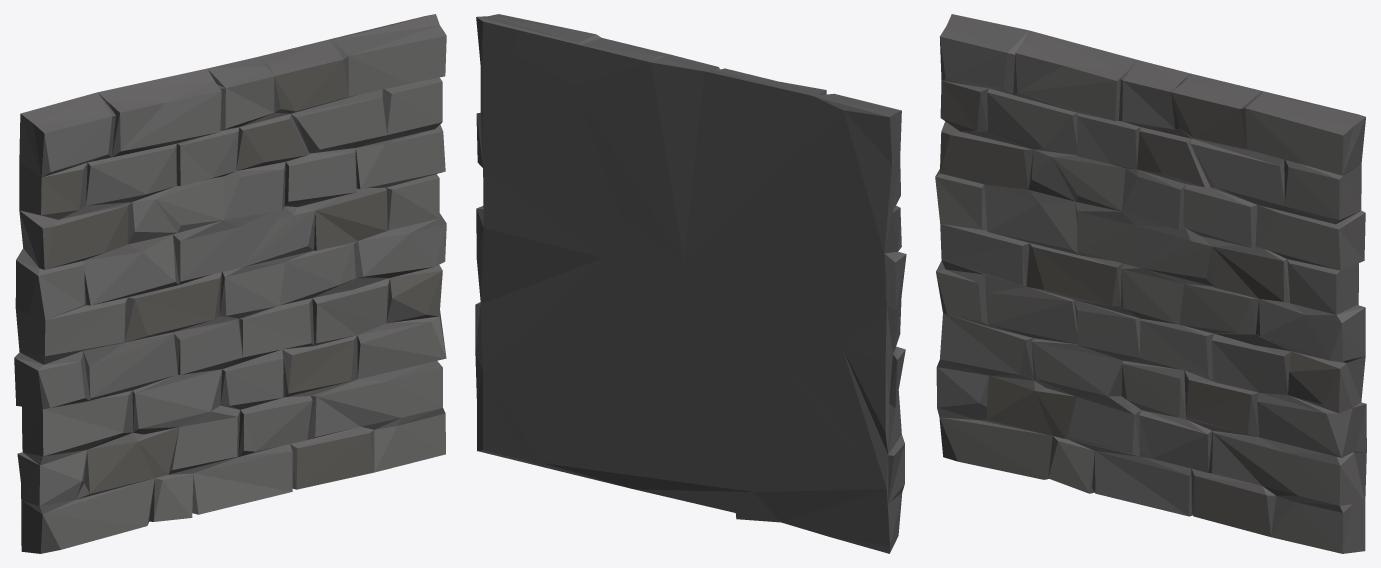
File: SM_Env_Wall_01.FBX
3 views of the same model, side by side, from view 1: azimuth 30°, elevation 25°; view 2: azimuth 150°, elevation 25°; view 3: azimuth 330°, elevation 25° (orthographic).
Visible parts, largest first — view 1: SM_Env_Wall_01; view 2: SM_Env_Wall_01; view 3: SM_Env_Wall_01.
Part boxes in pixels (<box>): SM_Env_Wall_01: <box>14,14,446,553</box>; SM_Env_Wall_01: <box>475,14,906,553</box>; SM_Env_Wall_01: <box>935,14,1366,553</box>.
Size of what is drawn, in the model's own units: 524 by 43 by 524.
